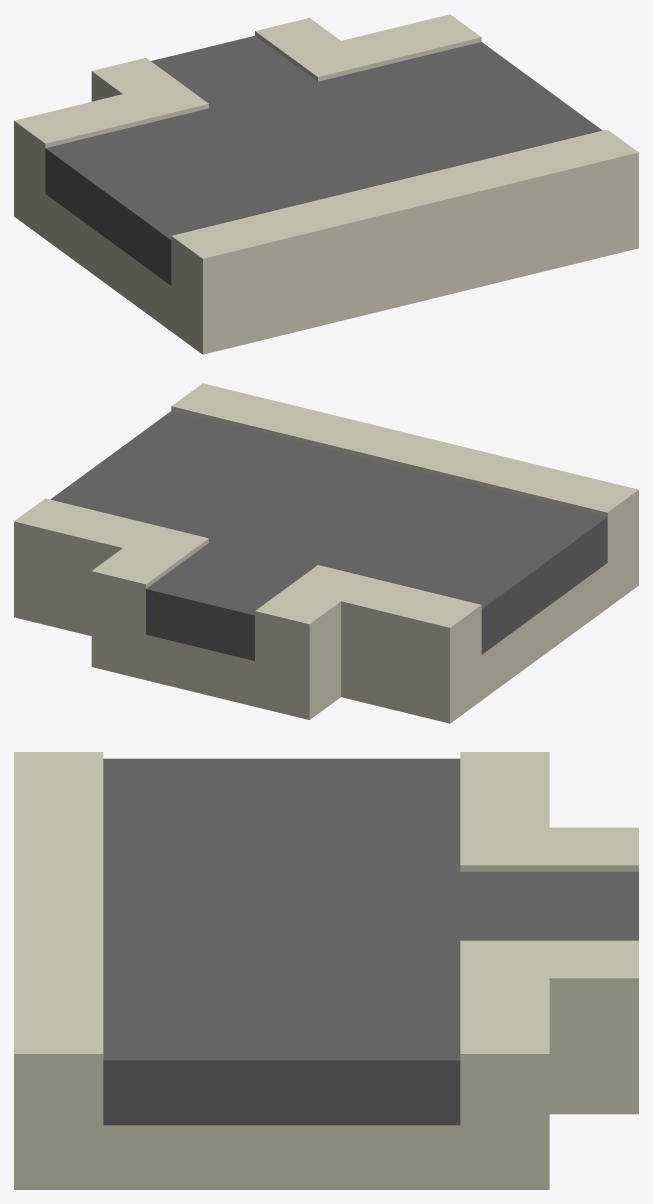
File: tile164.dae
The picture shows the model from 3 angles, top to bottom: view 1: azimuth 30°, elevation 25°; view 2: azimuth 150°, elevation 25°; view 3: azimuth 270°, elevation 25°; orthographic projection. The views are drawn at different scales.
Visible parts, largest first — view 1: tile164; view 2: tile164; view 3: tile164.
Part boxes in pixels (<box>): tile164: <box>14,14,638,354</box>; tile164: <box>14,383,638,723</box>; tile164: <box>14,752,638,1189</box>.
Size of the model in its own units: 1 by 0.21 by 0.875.
